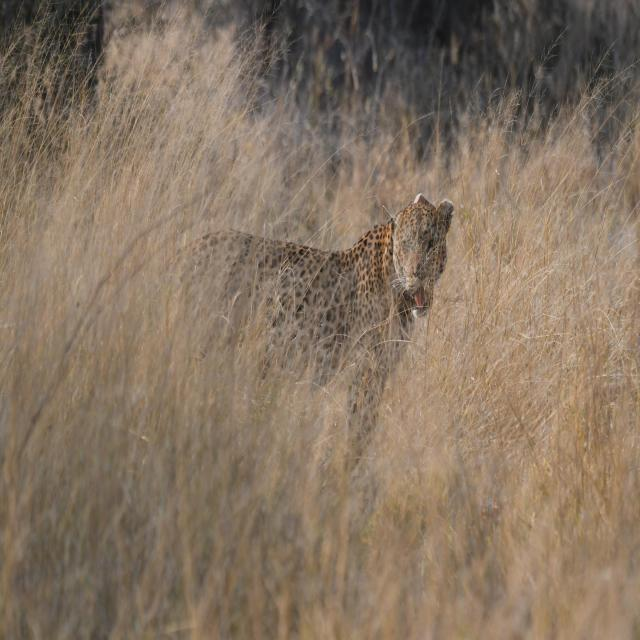Leopard: (149, 200, 459, 488)
